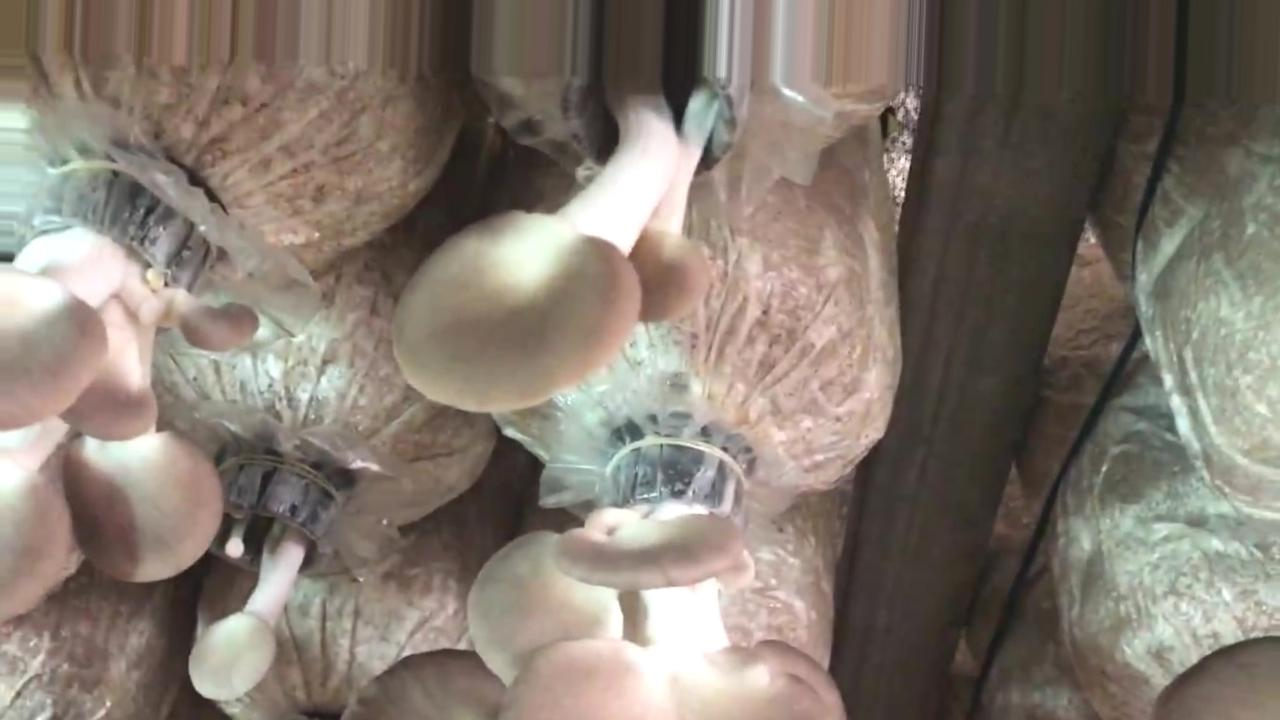nam: (358, 438, 846, 720), (395, 66, 748, 410), (1, 171, 261, 620), (187, 458, 354, 697), (1153, 636, 1280, 717)
